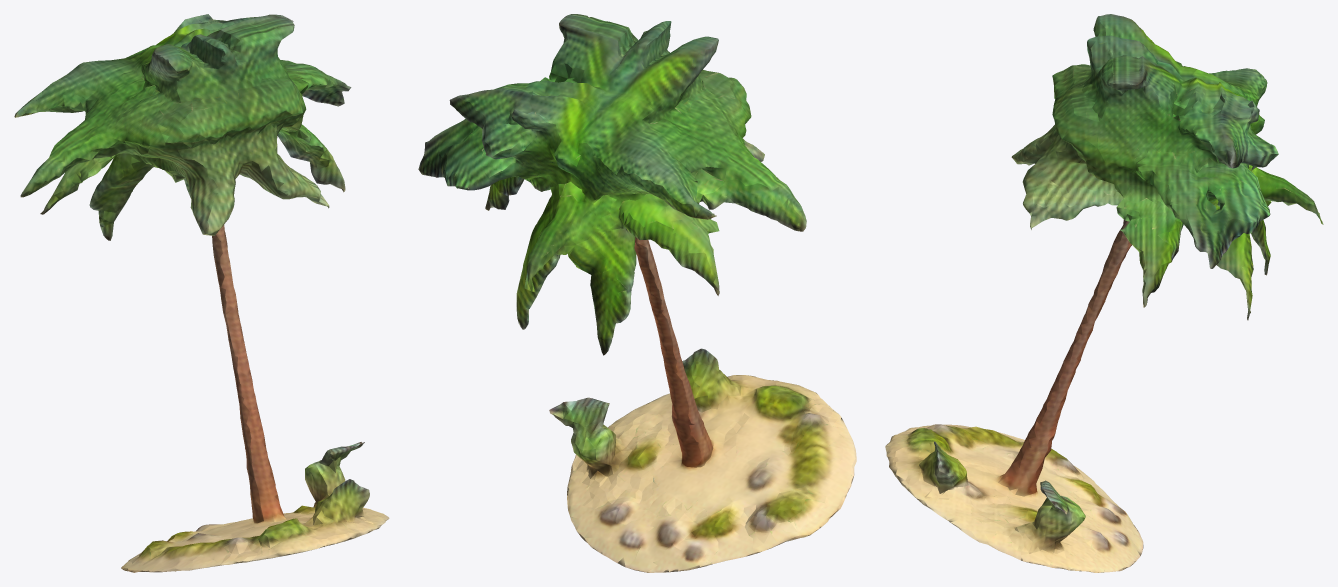
Rendered from garden.glb.
3 views of the same model, side by side, from view 1: azimuth 30°, elevation 25°; view 2: azimuth 150°, elevation 25°; view 3: azimuth 270°, elevation 25° (orthographic). The views are drawn at different scales.
Visible parts, largest first — view 1: world; view 2: world; view 3: world.
Part boxes in pixels (x1,y1,x2,y2): world: (14, 14, 389, 572); world: (418, 14, 856, 572); world: (885, 14, 1323, 572).
Size of the model in its own units: 0.6899 by 0.9705 by 0.7574.
1 material, 1 textured.
